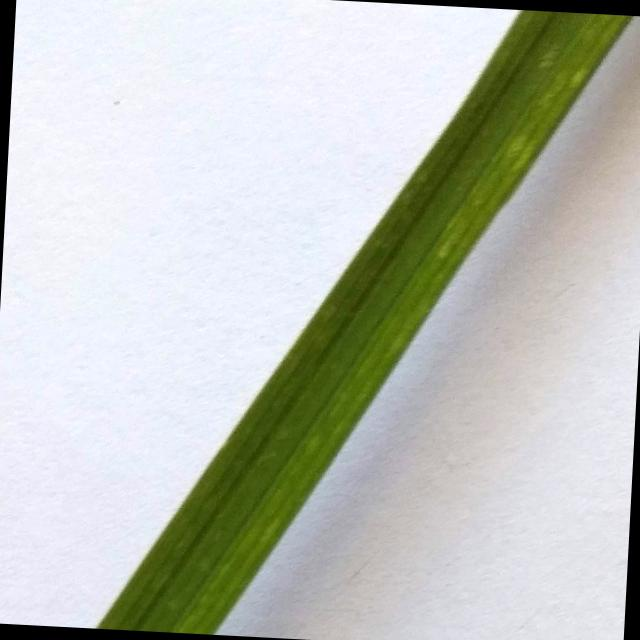Rice_Healthy: (97, 10, 633, 634)
